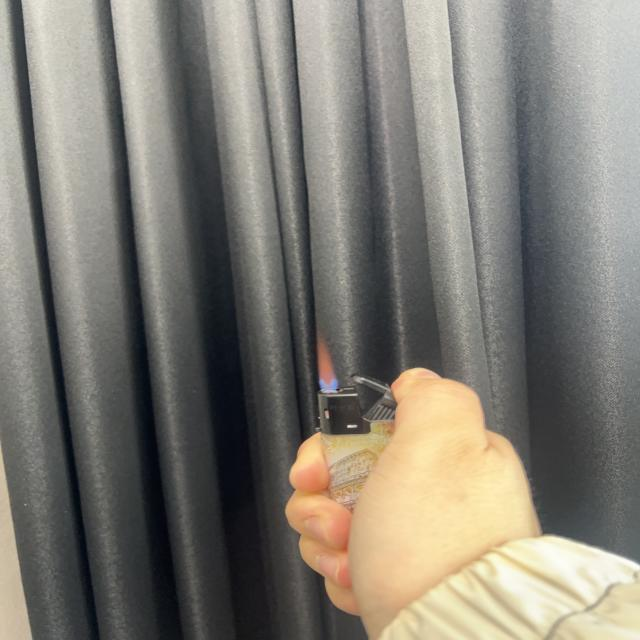fire: (314, 330, 340, 394)
